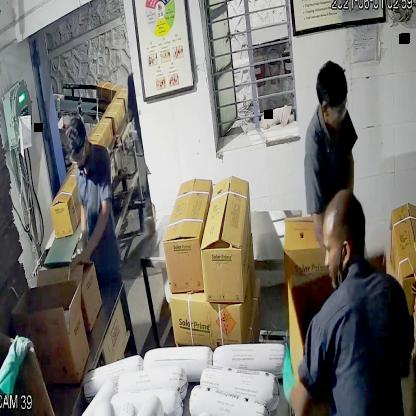goggles: (66, 144, 90, 166)
